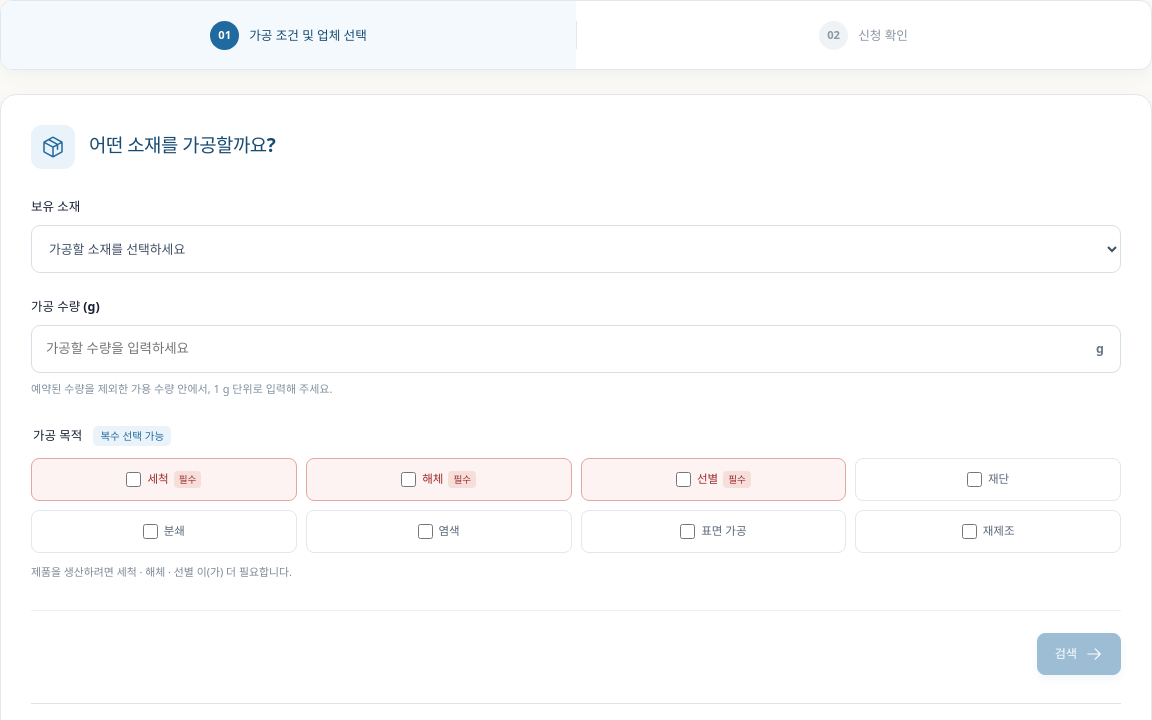
Test: 보유 소재 선택지와 선택한 소재에 가공 이력을 함께 보여준다
Select "폐데님 · 가공 전 · MAT-1 · 가용 800 g" in the dropdown labelled "보유 소재" at (576, 249), box [31,225,1121,273]
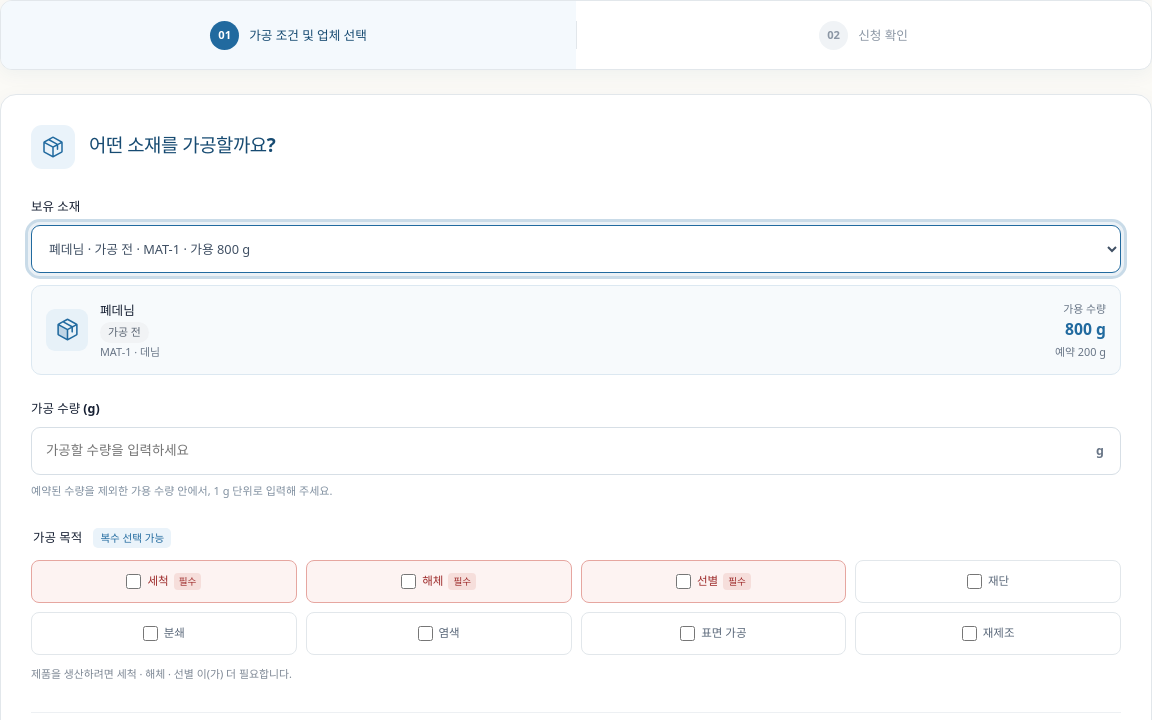
Check: the text "가공 전" is shown, box [100,322,149,342]
